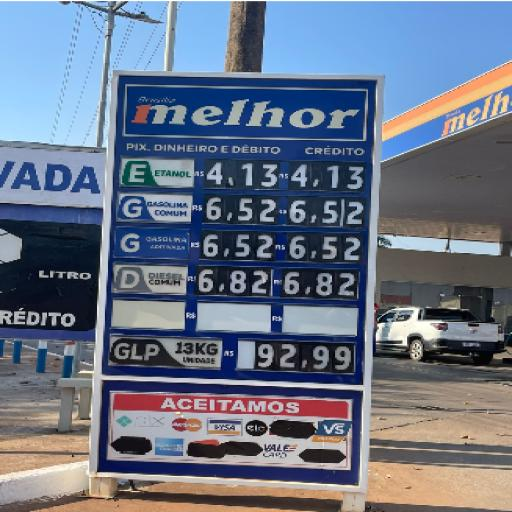ETANOL: (124, 160, 192, 188)
GASOLINA AD: (117, 230, 190, 258)
GASOLINA C: (119, 196, 196, 220)
S500: (115, 266, 188, 292)
placa: (98, 71, 379, 339)
preco: (205, 157, 282, 191), (199, 266, 271, 297), (200, 234, 276, 261), (205, 195, 281, 221)
